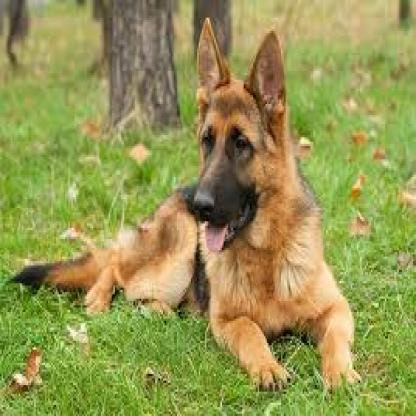German Sheperd: (8, 20, 361, 388)
